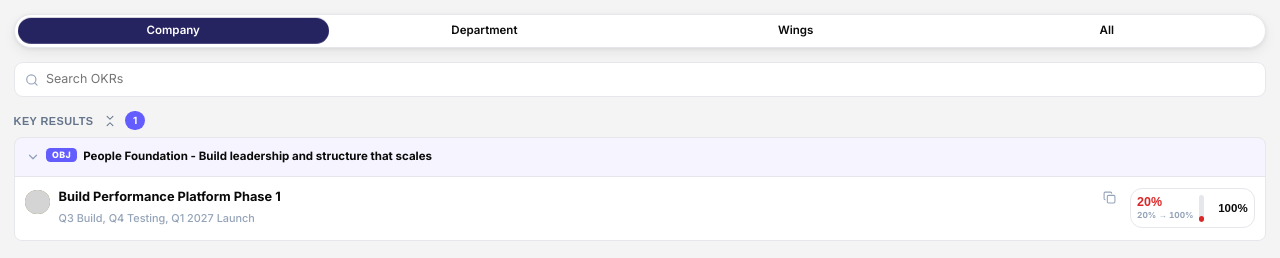
Test: GoalOkrReferenceList › reports when nothing matches the search
Type "payroll" into the search field at coordinates (650, 80), box [46, 70, 1255, 89]
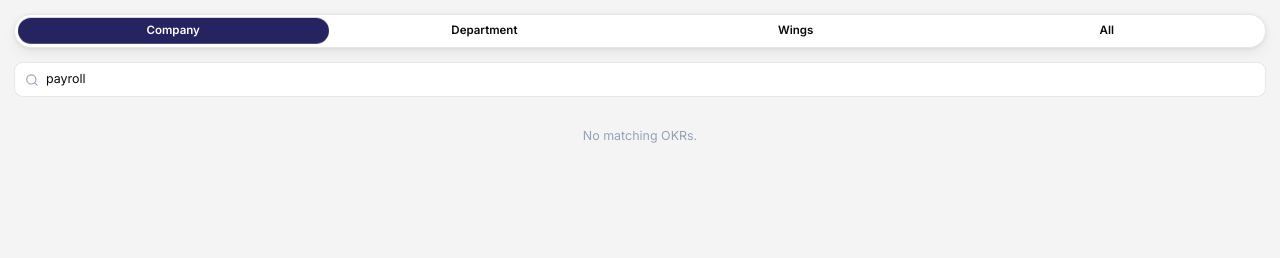
Expected: the text "No matching OKRs." is shown, [583, 128, 697, 143]
